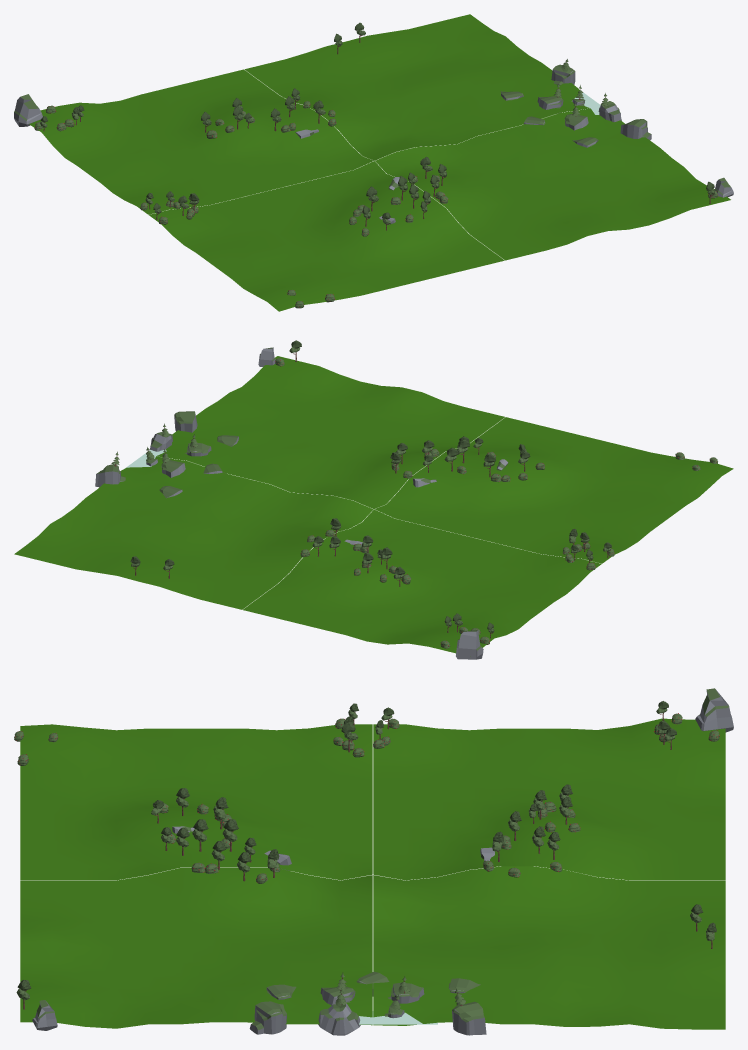
File: alpenstad.glb
The picture shows the model from 3 angles, top to bottom: view 1: azimuth 30°, elevation 25°; view 2: azimuth 150°, elevation 25°; view 3: azimuth 270°, elevation 25°; orthographic projection. The views are drawn at different scales.
Parts seen in each view (by area): view 1: Plane, Rock_Moss_2, Rock_Moss_6.006; view 2: Plane, Rock_Moss_2; view 3: Plane, Rock_Moss_2, Rock_Moss_4, Rock_Moss_6.006, Rock_Moss_6.
Boxes of the visible parts, x1,y1,x2,y2 form: Plane: (29, 14, 730, 311); Rock_Moss_2: (14, 94, 42, 126); Rock_Moss_6.006: (620, 119, 651, 140); Plane: (14, 356, 733, 656); Rock_Moss_2: (456, 630, 483, 659); Plane: (20, 718, 725, 1029); Rock_Moss_2: (695, 688, 733, 732); Rock_Moss_4: (318, 1004, 360, 1035); Rock_Moss_6.006: (249, 1001, 286, 1034); Rock_Moss_6: (452, 1001, 486, 1035).
Bounding box in the file's own units: 20.67 × 1.54 × 20.4.
